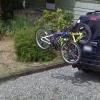Bicycle: (33, 14, 88, 72)
